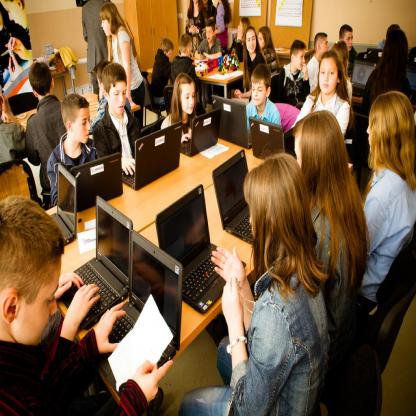board: (99, 230, 183, 398), (155, 182, 246, 316), (60, 196, 132, 330), (124, 118, 182, 188), (212, 150, 252, 244), (71, 151, 124, 216), (49, 162, 77, 248), (212, 98, 252, 148), (180, 109, 220, 157), (249, 117, 284, 162), (350, 60, 377, 96), (348, 51, 366, 76), (406, 67, 416, 96), (366, 48, 383, 62)
